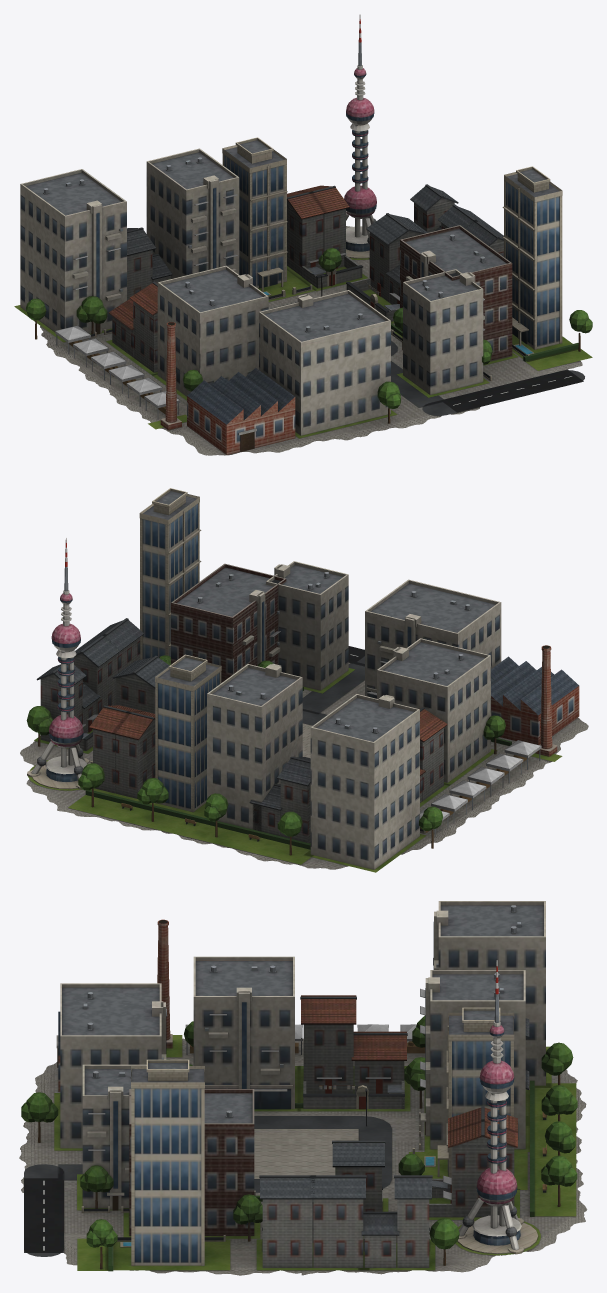
File: modern-town-medium-b-sinic.glb
3 renders of one model, top to bottom at view 1: azimuth 30°, elevation 25°; view 2: azimuth 150°, elevation 25°; view 3: azimuth 270°, elevation 25°, orthographic. The views are drawn at different scales.
Visible parts, largest first — view 1: LOD0; view 2: LOD0; view 3: LOD0.
Boxes of the visible parts, <box> form: LOD0: <box>14,14,592,455</box>; LOD0: <box>20,488,588,872</box>; LOD0: <box>19,901,587,1275</box>.
Size of what is drawn, in the model's own units: 6.06 by 3.23 by 6.07.
Materials: 3 (3 with a texture image).
